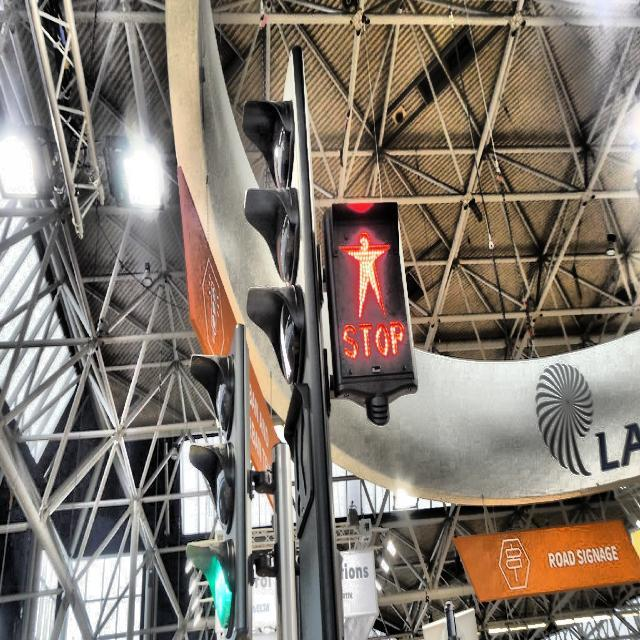red_light: (336, 226, 392, 322)
